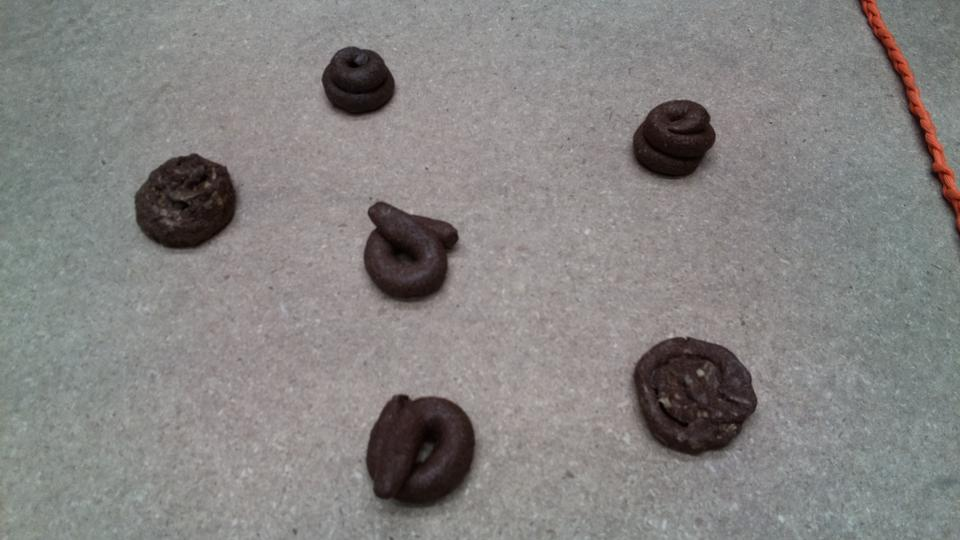poop: (630, 332, 762, 458), (362, 389, 479, 511), (131, 148, 243, 253), (359, 199, 462, 303), (629, 95, 719, 183), (319, 43, 397, 118)
rope: (855, 1, 959, 234)
